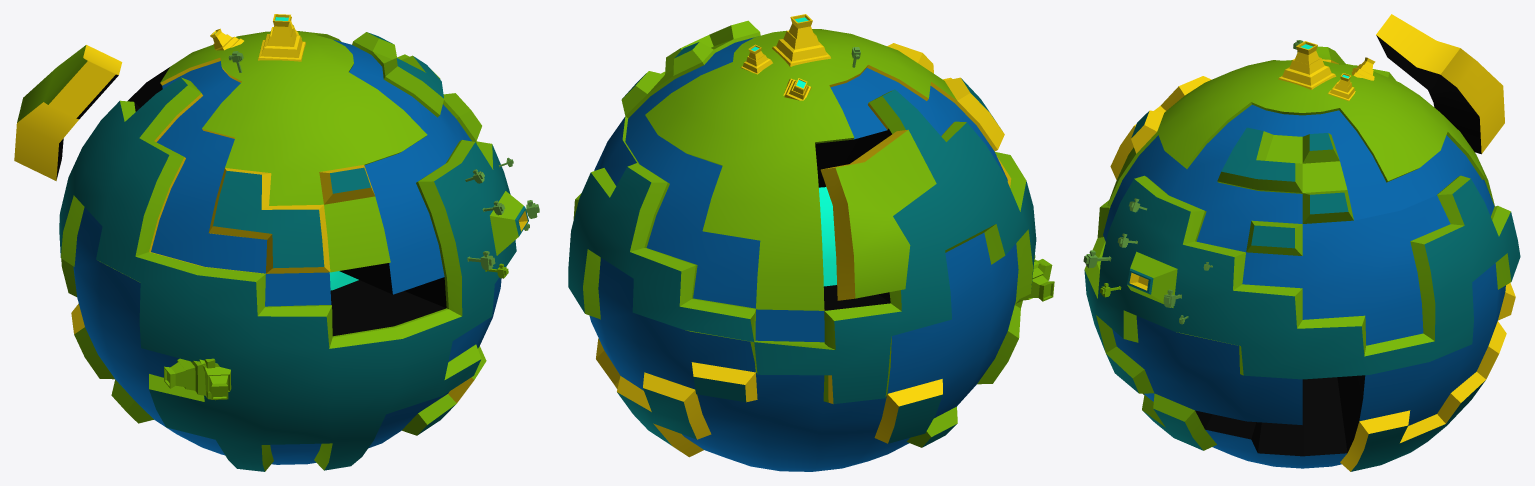
File: 1 Планета.fbx
3 renders of one model, left to right at view 1: azimuth 30°, elevation 25°; view 2: azimuth 150°, elevation 25°; view 3: azimuth 270°, elevation 25°, orthographic. The views are drawn at different scales.
Parts seen in each view (by area): view 1: pSphere4; view 2: pSphere4; view 3: pSphere4.
Boxes of the visible parts, x1,y1,x2,y2 form: pSphere4: (14, 14, 539, 471); pSphere4: (568, 14, 1054, 471); pSphere4: (1083, 14, 1520, 471).
Bounding box in the file's own units: 14.62 × 15.03 × 14.79.
